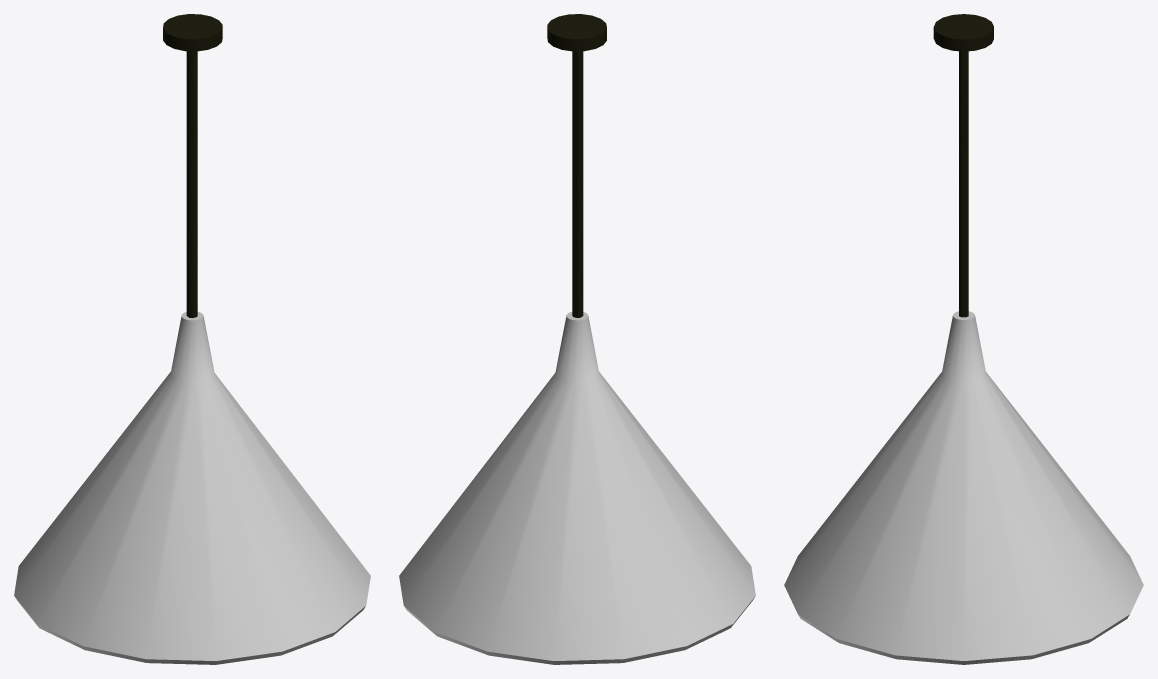
File: lamp.fbx
3 renders of one model, left to right at view 1: azimuth 30°, elevation 25°; view 2: azimuth 150°, elevation 25°; view 3: azimuth 270°, elevation 25°, orthographic.
Visible parts, largest first — view 1: pCone2, pCube623, pCylinder320; view 2: pCone2, pCube623, pCylinder320; view 3: pCone2, pCube623, pCylinder320.
Part boxes in pixels (box(x1,y1,x2,y2)): pCone2: box(14, 312, 370, 664); pCube623: box(186, 51, 197, 317); pCylinder320: box(163, 14, 222, 51); pCone2: box(399, 312, 755, 664); pCube623: box(572, 51, 583, 317); pCylinder320: box(547, 14, 606, 51); pCone2: box(784, 311, 1143, 664); pCube623: box(959, 51, 968, 317); pCylinder320: box(933, 14, 993, 51).
Bounding box in the file's own units: 0.8219 × 1.42 × 0.8219.
